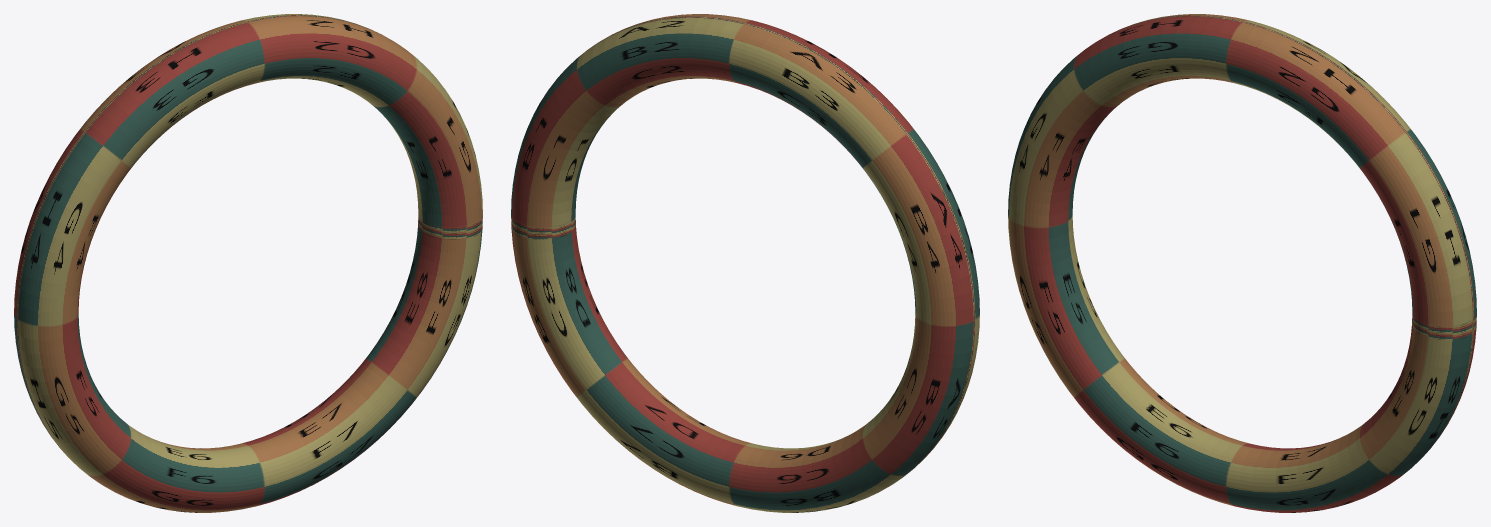
Rendered from texture_torus_R2_r0.glb.
3 renders of one model, left to right at view 1: azimuth 30°, elevation 25°; view 2: azimuth 150°, elevation 25°; view 3: azimuth 330°, elevation 25°, orthographic.
Visible parts, largest first — view 1: world; view 2: world; view 3: world.
Part boxes in pixels (x1,y1,x2,y2): world: (14,14,482,512); world: (511,14,979,512); world: (1008,14,1476,512).
Size of the model in its own units: 16.44 by 16.44 by 2.
Materials: 1 (1 with a texture image).
